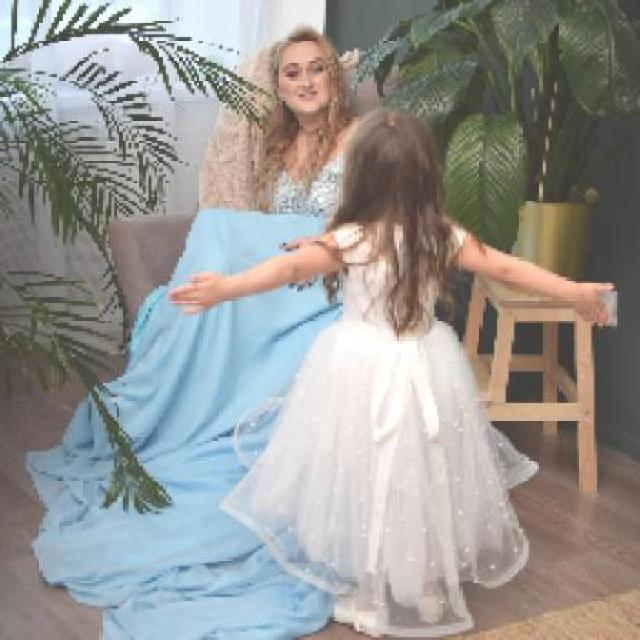child: (165, 108, 618, 638)
